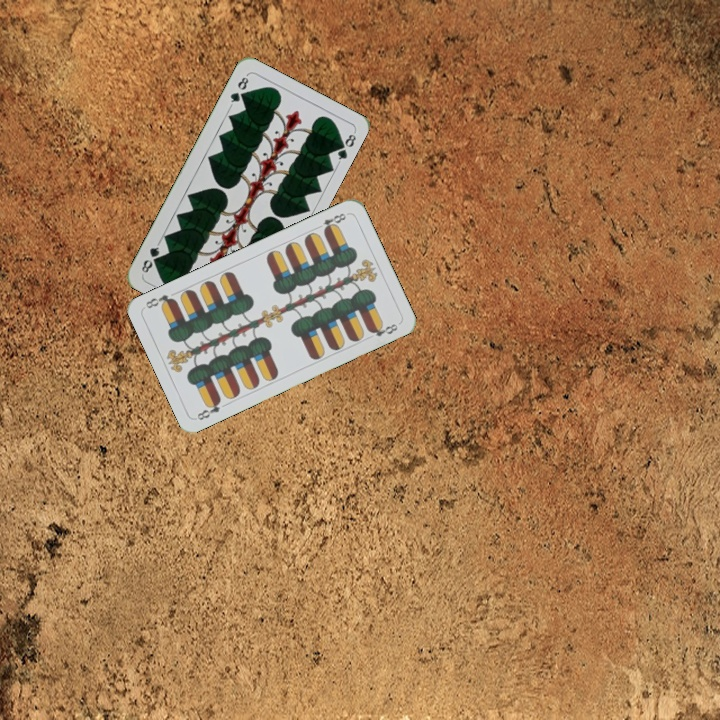E8: (312, 209, 349, 235), (193, 395, 223, 423)
G8: (226, 71, 251, 109)
